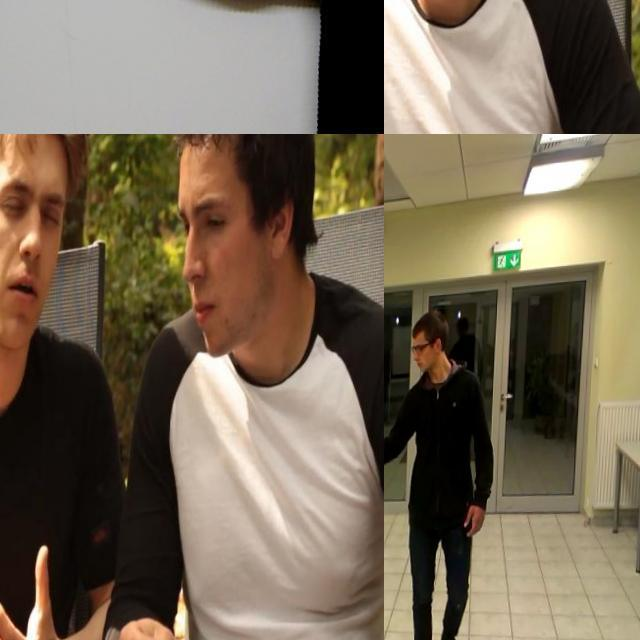-: (0, 464, 38, 629), (384, 0, 428, 134)
gun-knife-thesis - v11 Yolov5 augmented: (0, 0, 384, 134), (384, 416, 404, 482)
